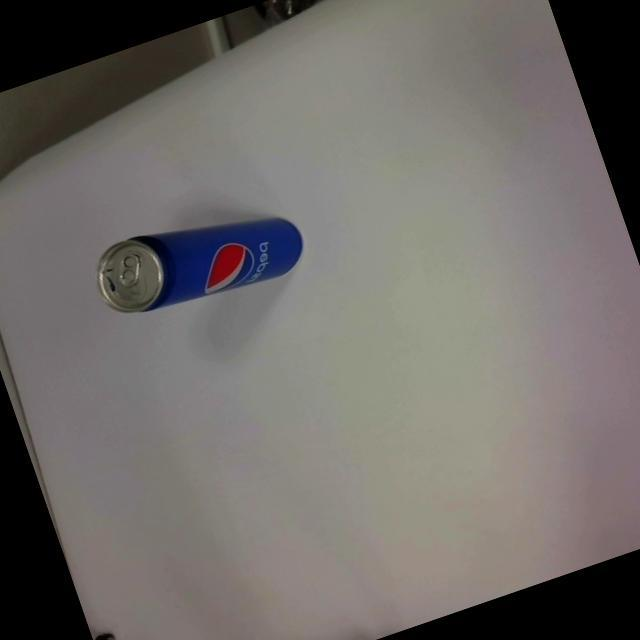debris: (84, 184, 311, 334)
